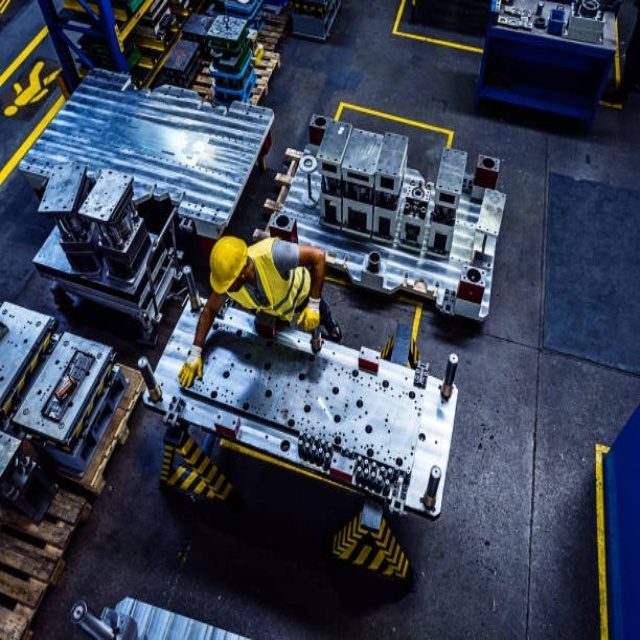Guantes: (178, 346, 203, 387), (297, 294, 321, 331)
